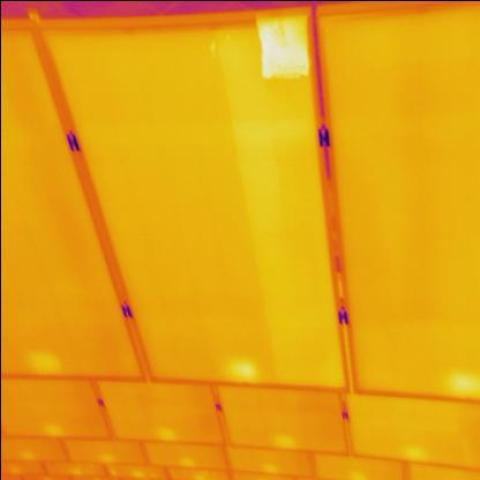fault: (260, 18, 314, 72), (230, 359, 258, 380), (454, 372, 479, 394)
